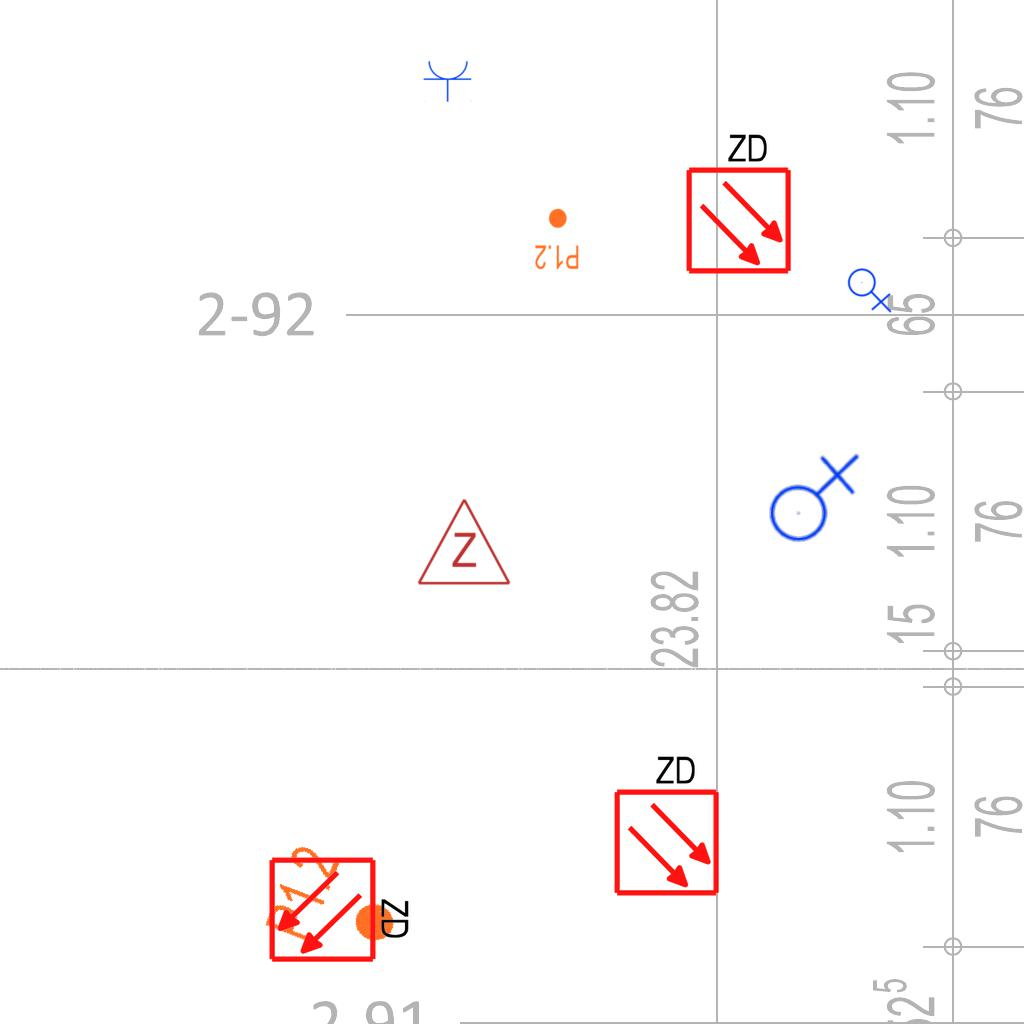Downlight_LED_Einbauleuchten_Flur: (260, 839, 413, 973), (534, 207, 580, 271)
Elektroanschluss_allgemein_230V_Geraeteanschlussdose_230V: (761, 449, 860, 543), (847, 264, 894, 313)
Schukosteckdose_einfach: (423, 59, 473, 102)
ZD_Melder_in_Zwischendecke_mit_Revisionsoeffnung_mind_40_x_40_cm: (608, 749, 722, 898), (680, 127, 794, 276), (267, 851, 416, 965)
Zimmersignalleuchte: (414, 492, 512, 592)
